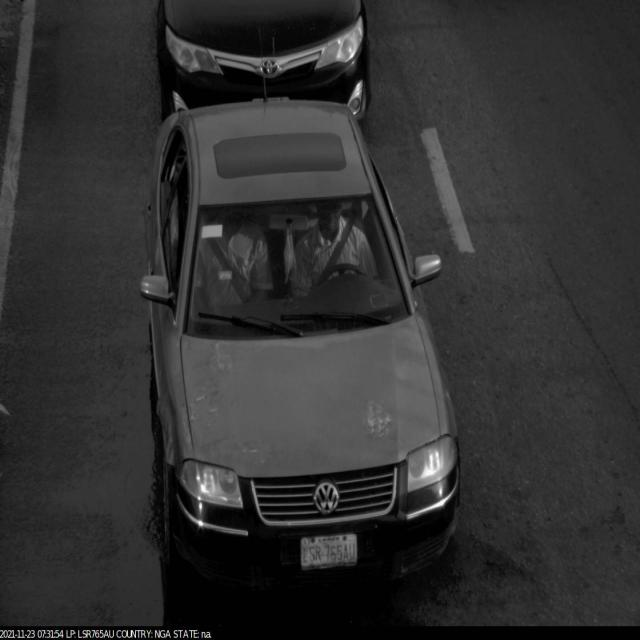windshield: (176, 180, 421, 352)
